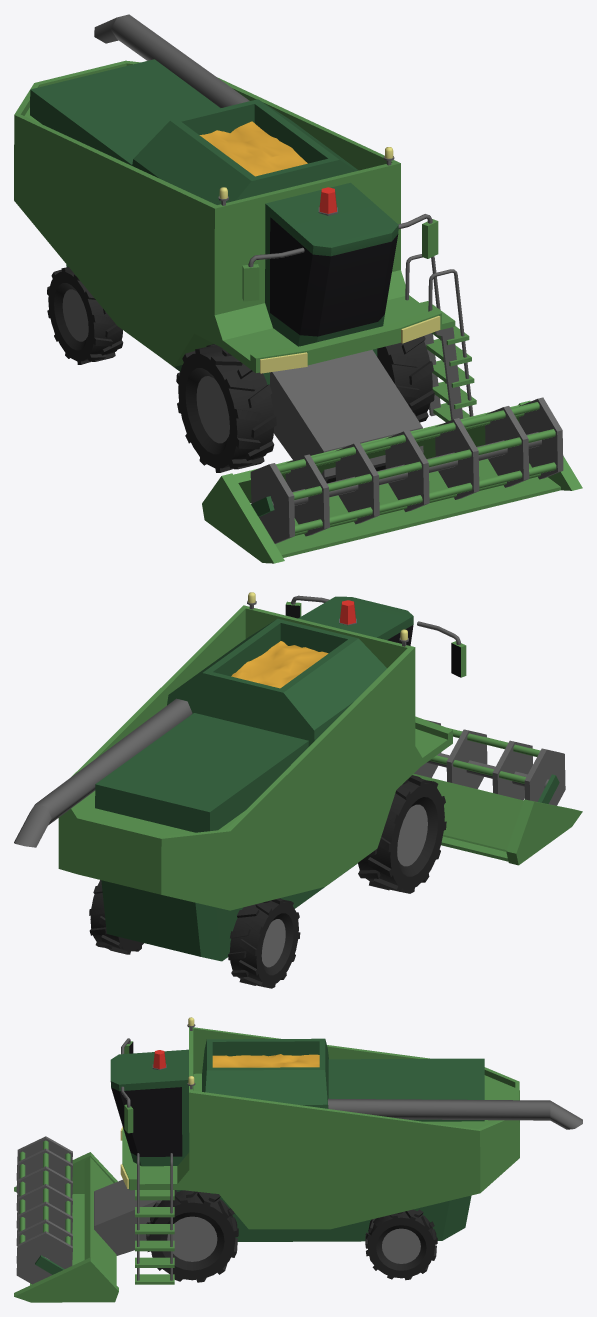
The model's file is Harvester_01.fbx.
3 renders of one model, top to bottom at view 1: azimuth 30°, elevation 25°; view 2: azimuth 150°, elevation 25°; view 3: azimuth 270°, elevation 25°, orthographic. The views are drawn at different scales.
Parts seen in each view (by area): view 1: Harvester_01, Harvester_01_Roll, Harvester_01_Roll_Cover, Harvester_01_Front_Tube; view 2: Harvester_01, Harvester_01_Roll_Cover, Harvester_01_Roll; view 3: Harvester_01, Harvester_01_Roll, Harvester_01_Roll_Cover, Harvester_01_Front_Tube.
Boxes of the visible parts, left/top/right/bottom form: Harvester_01: left=14, top=14, right=476, bottom=472; Harvester_01_Roll: left=250, top=397, right=563, bottom=543; Harvester_01_Roll_Cover: left=202, top=400, right=582, bottom=563; Harvester_01_Front_Tube: left=270, top=349, right=423, bottom=483; Harvester_01: left=14, top=592, right=466, bottom=988; Harvester_01_Roll_Cover: left=412, top=773, right=582, bottom=865; Harvester_01_Roll: left=414, top=720, right=565, bottom=805; Harvester_01: left=110, top=1017, right=582, bottom=1284; Harvester_01_Roll: left=16, top=1136, right=72, bottom=1284; Harvester_01_Roll_Cover: left=14, top=1152, right=118, bottom=1302; Harvester_01_Front_Tube: left=94, top=1179, right=161, bottom=1255.
Size of the model in its own units: 6.6 by 5.69 by 14.53.
